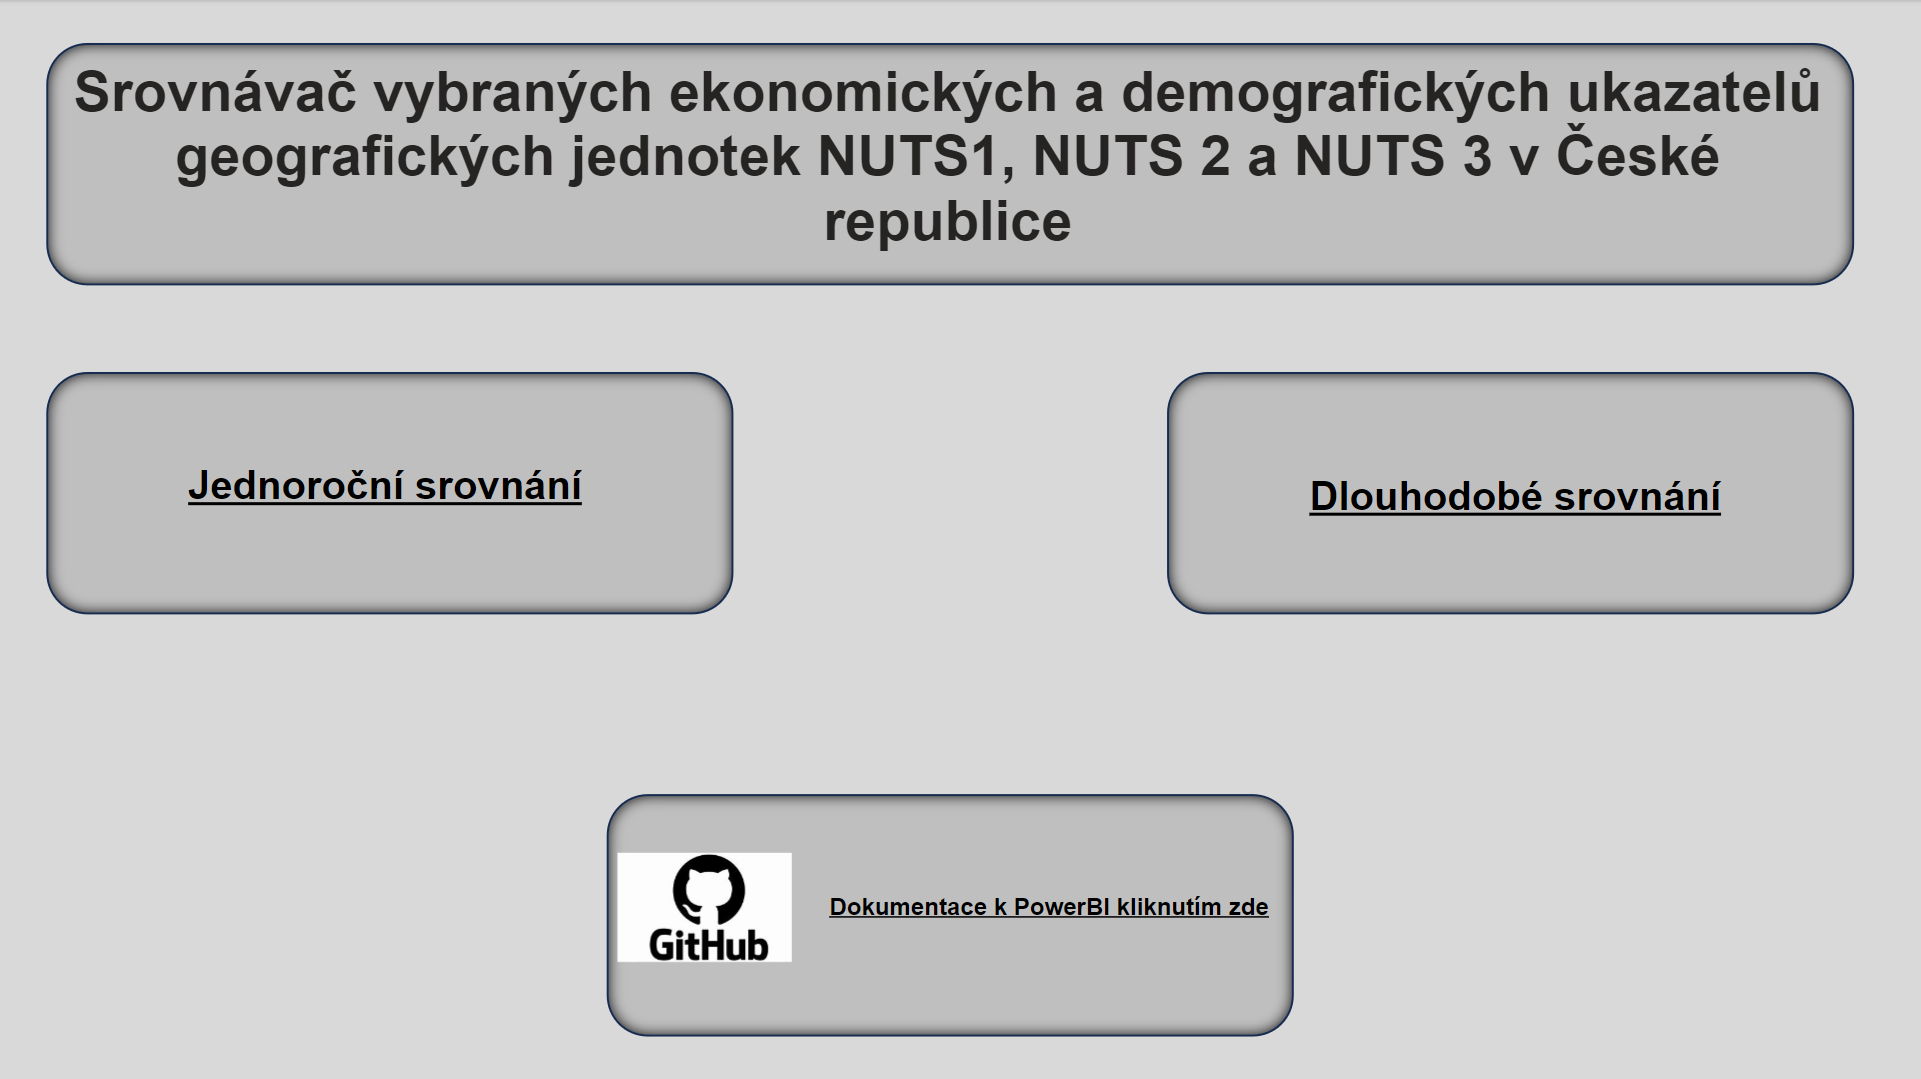

Layout of this report page (visuals, bound fields, positions):
{"tool":"powerbi","page":{"name":"Hlavní Menu","canvas":[1280,720],"ordinal":0},"visuals":[{"type":"actionButton","box":[797.1,260,425,140],"z":0},{"type":"actionButton","box":[42.9,260,430,127.9],"z":1000},{"type":"textbox","box":[42.9,34.3,1179.3,143.6],"z":2000},{"type":"actionButton","box":[411.4,542.1,438.6,124.3],"z":3000}]}

Visuals, with their boxes in screenshot pixels (x1, y1, x2, y2), scaled from the page's 1280x720 canvas onto the 1921x1079 screenshot:
actionButton: [left=1196, top=390, right=1834, bottom=599]
actionButton: [left=64, top=390, right=710, bottom=581]
textbox: [left=64, top=51, right=1834, bottom=267]
actionButton: [left=617, top=812, right=1276, bottom=999]
